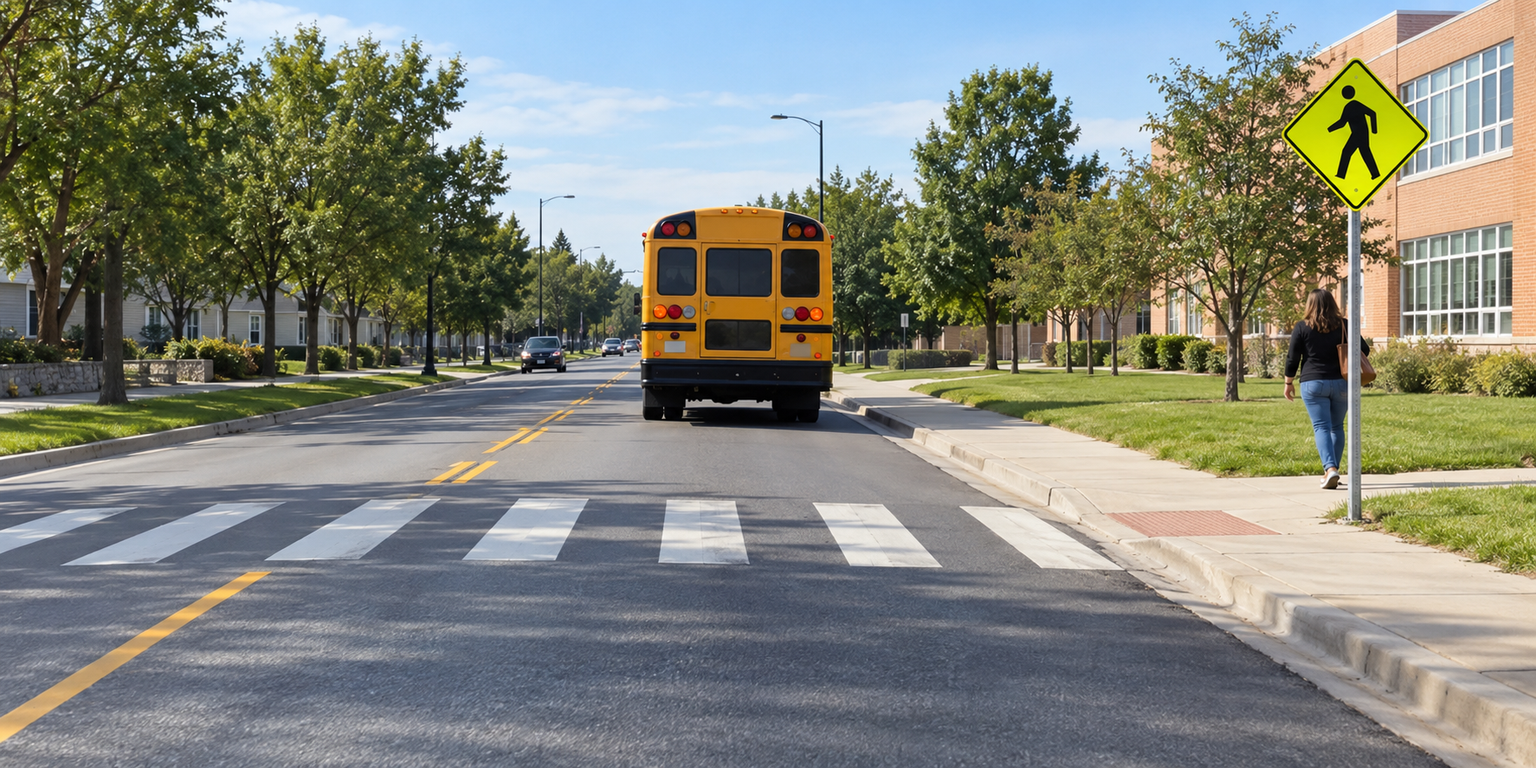bus: (640, 209, 832, 422)
car: (518, 334, 564, 371), (599, 328, 638, 364), (657, 327, 687, 360)
crossing_warning_sign: (1289, 42, 1429, 196)
person: (1315, 288, 1392, 493)
zebra_crossing: (0, 497, 947, 559)
